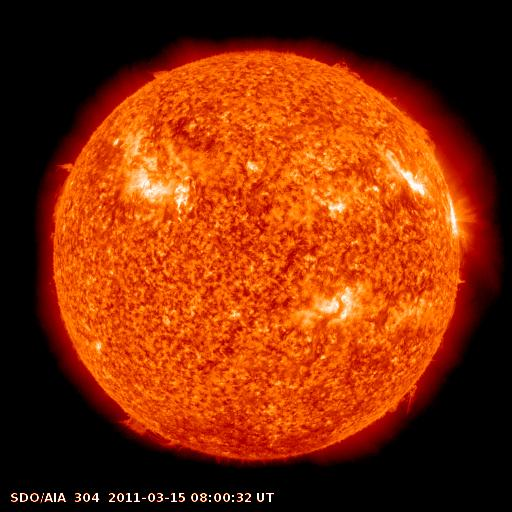prominence: (108, 407, 193, 454), (391, 99, 448, 162), (378, 374, 429, 425), (322, 51, 374, 89), (140, 60, 179, 87), (47, 152, 82, 181)
